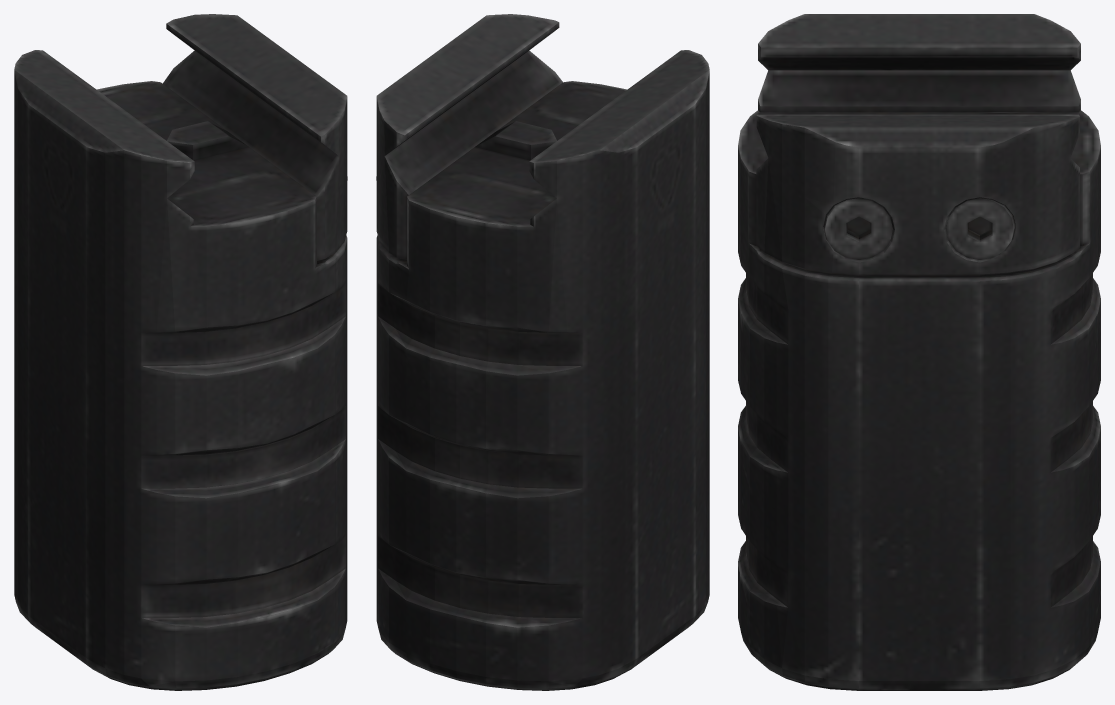
3 renders of one model, left to right at view 1: azimuth 30°, elevation 25°; view 2: azimuth 150°, elevation 25°; view 3: azimuth 270°, elevation 25°, orthographic. The views are drawn at different scales.
Visible parts, largest first — view 1: TW_5cf4fb76d7f00c065703d3ac_PZ_Import; view 2: TW_5cf4fb76d7f00c065703d3ac_PZ_Import; view 3: TW_5cf4fb76d7f00c065703d3ac_PZ_Import.
Part boxes in pixels (<box>): TW_5cf4fb76d7f00c065703d3ac_PZ_Import: <box>14,14,347,690</box>; TW_5cf4fb76d7f00c065703d3ac_PZ_Import: <box>376,14,709,690</box>; TW_5cf4fb76d7f00c065703d3ac_PZ_Import: <box>738,14,1100,690</box>.
Size of the model in its own units: 0.0179 by 0.022 by 0.0376.
1 material, 1 textured.
